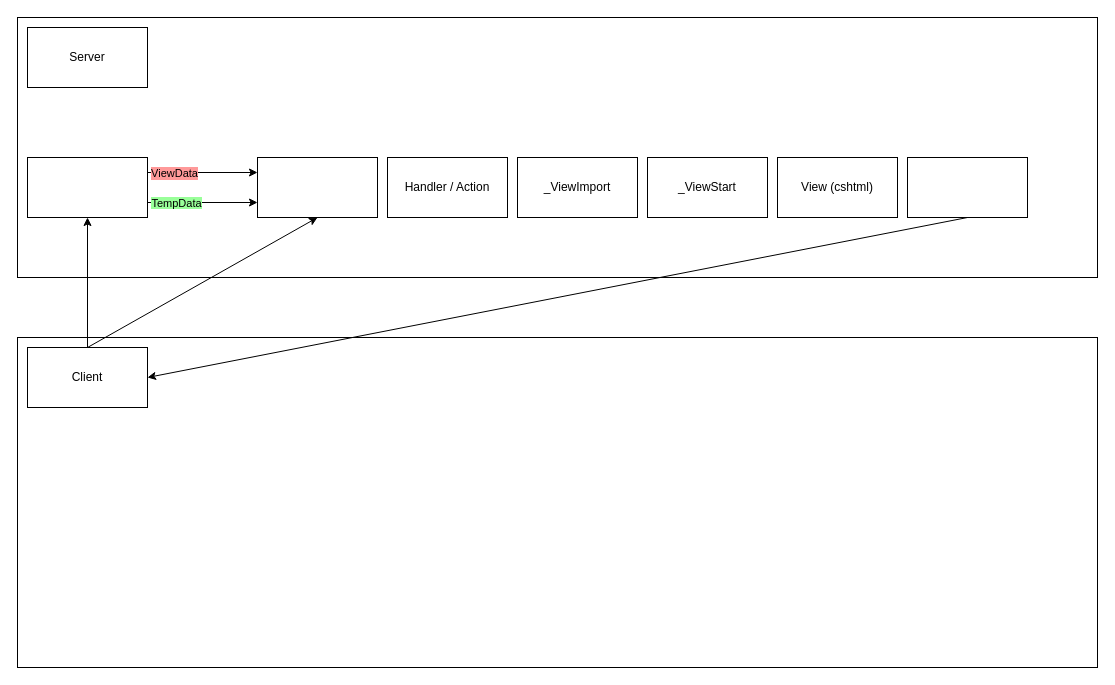
Some shapes in this 1115 by 685 pixel diagram are drawn without their labels. Each missing label, with the centre of its shape:
"Another Page Another Action" belongs at (87,187).
"Default Constructor" belongs at (317,187).
"Layout" belongs at (967,187).
